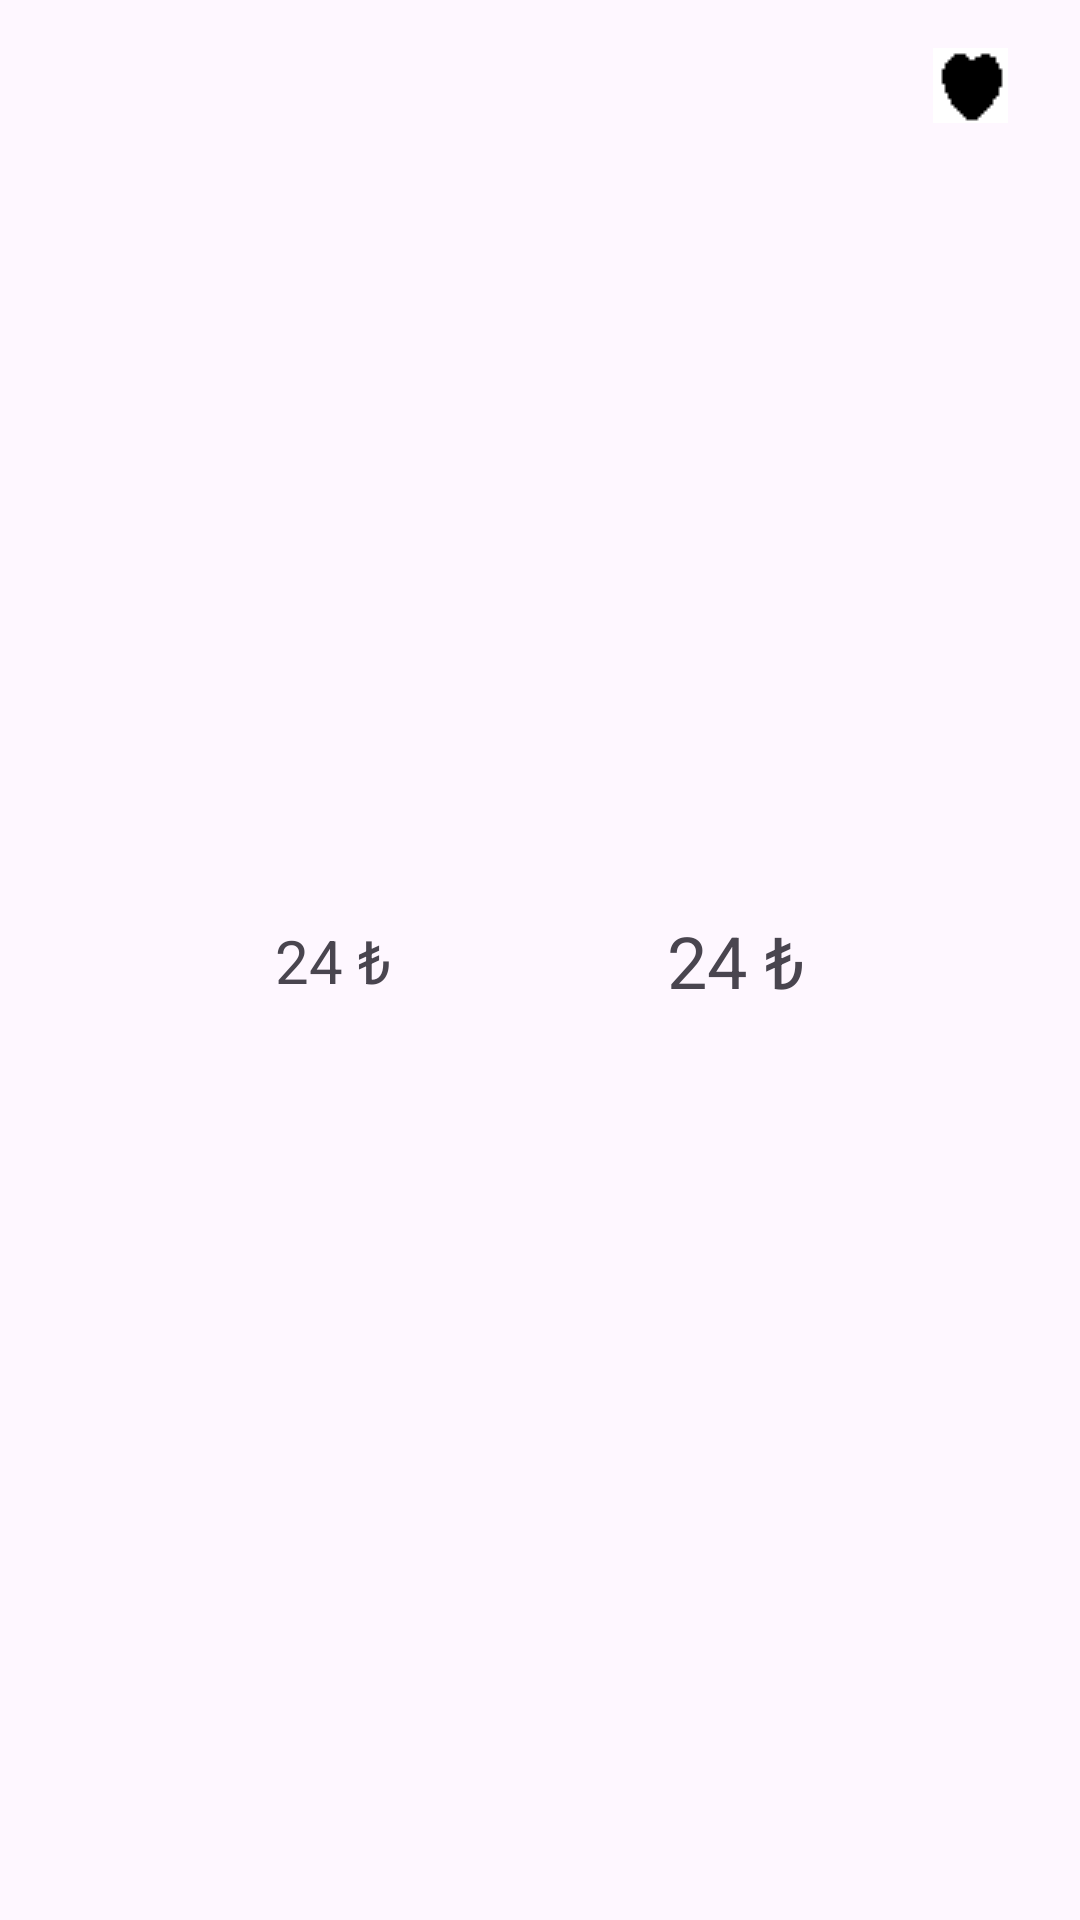

Named icons in this screenshot (1080w x 1920h) and their centers, (x=x, y=y):
kara kalp: (x=972, y=87)
